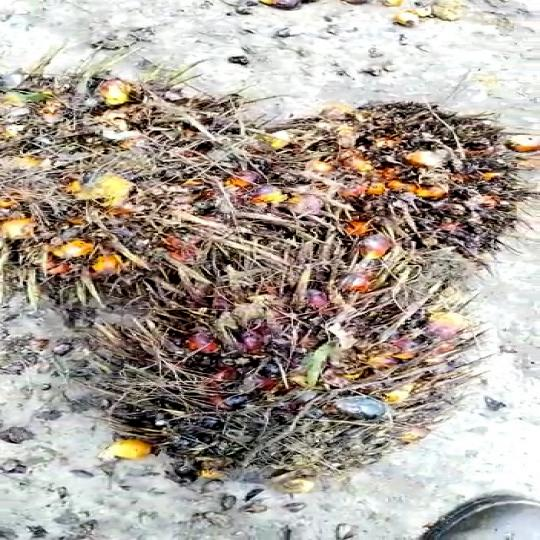terlalu masak: (65, 258, 478, 480), (241, 103, 540, 260)
